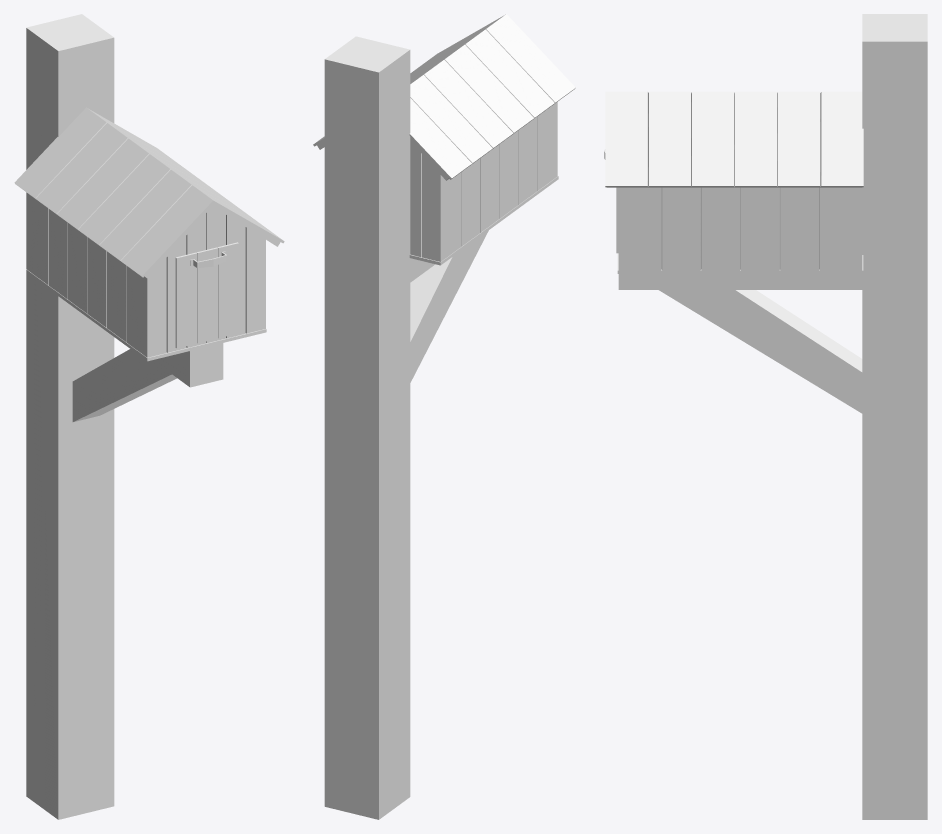
File: Prop_Letterbox_04.glb
3 renders of one model, left to right at view 1: azimuth 30°, elevation 25°; view 2: azimuth 150°, elevation 25°; view 3: azimuth 270°, elevation 25°, orthographic. The views are drawn at different scales.
Visible parts, largest first — view 1: Prop_Letterbox_04, Prop_Letterbox_Door_04; view 2: Prop_Letterbox_04; view 3: Prop_Letterbox_04.
Part boxes in pixels (box(x1,y1,x2,y2)): Prop_Letterbox_04: box(14, 14, 284, 819); Prop_Letterbox_Door_04: box(175, 242, 238, 348); Prop_Letterbox_04: box(313, 14, 575, 819); Prop_Letterbox_04: box(605, 14, 927, 819).
Bounding box in the file's own units: 0.2805 × 1.44 × 0.5434.
1 material, 1 textured.
